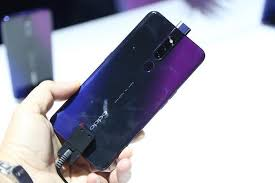oppo: (51, 9, 212, 175)
